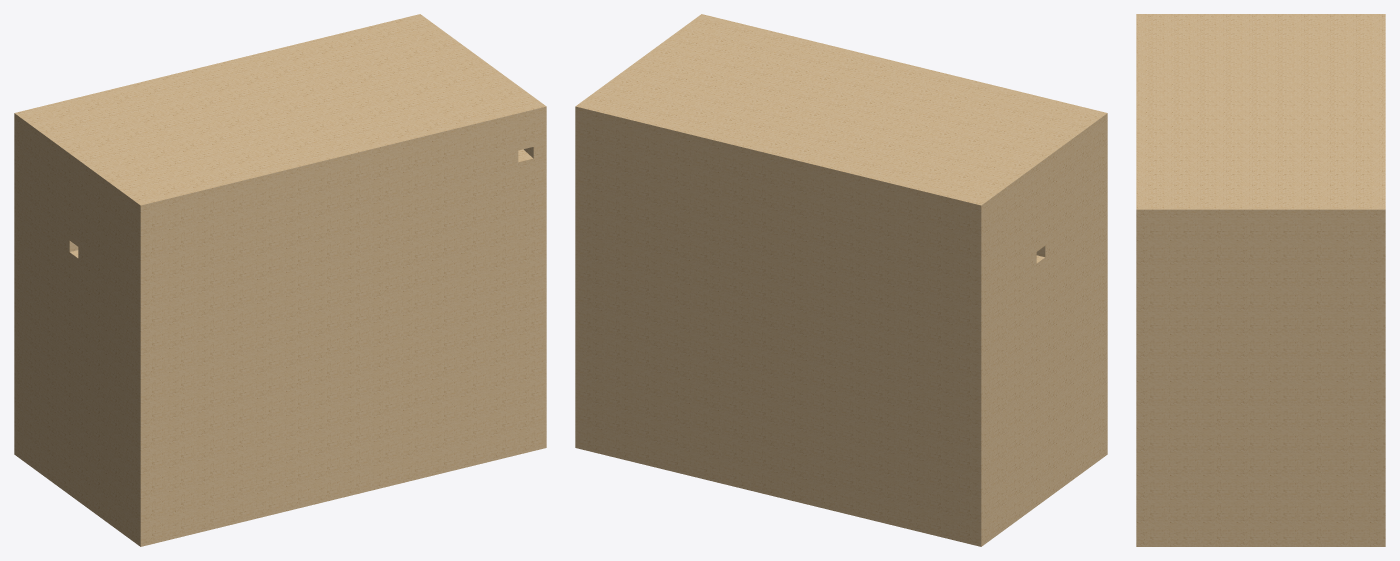
Rendered from wallrideroom.fbx.
3 views of the same model, side by side, from view 1: azimuth 30°, elevation 25°; view 2: azimuth 150°, elevation 25°; view 3: azimuth 270°, elevation 25° (orthographic).
Parts seen in each view (by area): view 1: wallrideroom_modaapplied; view 2: wallrideroom_modaapplied; view 3: wallrideroom_modaapplied.
Boxes of the visible parts, <box> form: wallrideroom_modaapplied: <box>14,14,546,546</box>; wallrideroom_modaapplied: <box>575,14,1107,546</box>; wallrideroom_modaapplied: <box>1136,14,1385,546</box>.
Bounding box in the file's own units: 29060 × 23352 × 15662.
